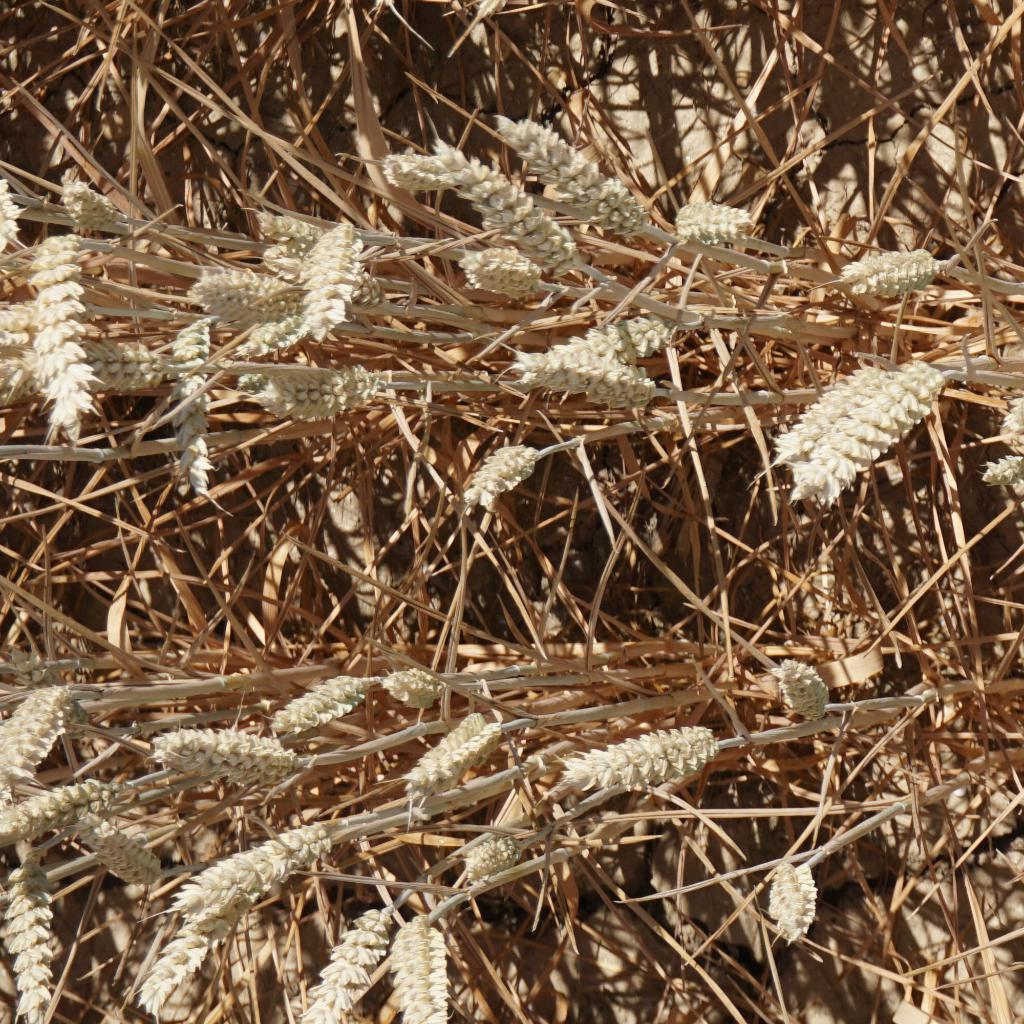0-0: (784, 359, 960, 508), (757, 348, 915, 479), (175, 811, 342, 929), (23, 228, 110, 443), (551, 720, 730, 797), (157, 305, 226, 498), (486, 92, 604, 204), (6, 830, 70, 1024), (244, 346, 395, 427), (0, 633, 108, 740), (393, 702, 507, 803), (25, 332, 171, 409), (509, 344, 663, 417), (145, 716, 305, 785), (374, 132, 505, 210), (381, 915, 470, 1024), (293, 902, 376, 1017), (271, 212, 366, 311), (125, 921, 218, 1019), (663, 173, 763, 251), (555, 307, 681, 368), (74, 811, 169, 891), (0, 769, 118, 833), (758, 844, 826, 952), (456, 230, 551, 303), (2, 651, 62, 765), (768, 644, 837, 738), (456, 440, 545, 511), (579, 177, 675, 242), (265, 671, 364, 730), (833, 242, 947, 293), (228, 297, 326, 356), (453, 826, 535, 896), (190, 265, 293, 316), (58, 173, 130, 230), (380, 656, 451, 708), (246, 232, 316, 277), (470, 0, 607, 21), (980, 445, 1024, 491), (1006, 360, 1024, 442)
